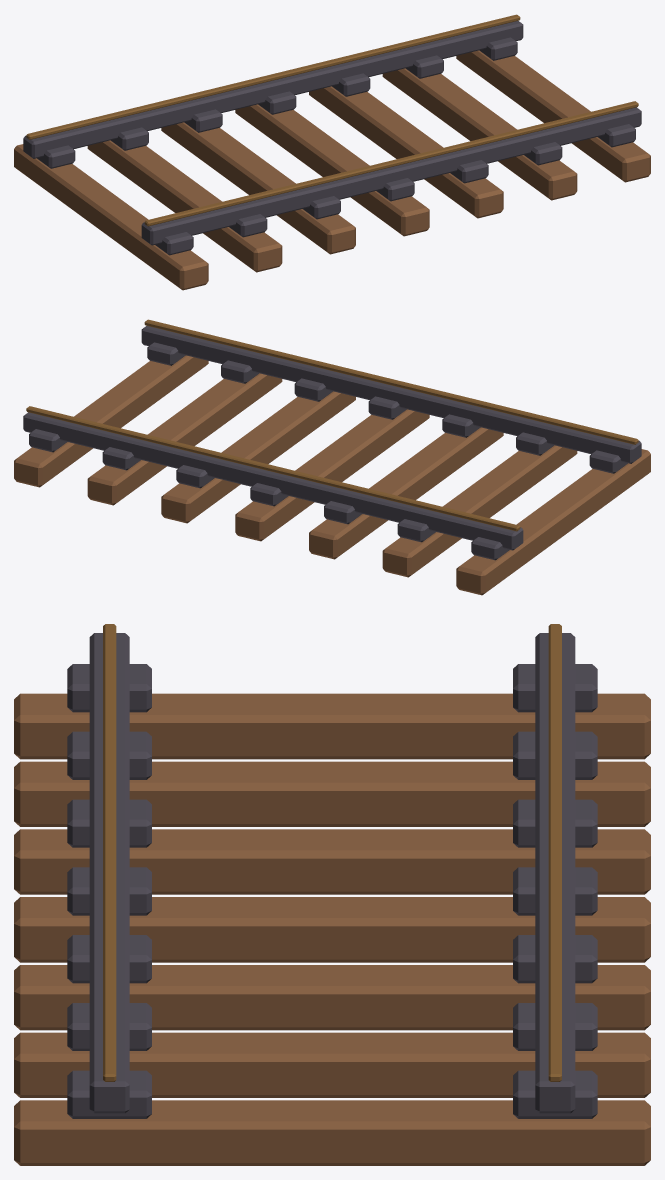
The model's file is SM_S3Bridge_Rail.fbx.
3 renders of one model, top to bottom at view 1: azimuth 30°, elevation 25°; view 2: azimuth 150°, elevation 25°; view 3: azimuth 270°, elevation 25°, orthographic. The views are drawn at different scales.
Visible parts, largest first — view 1: SM_S3Bridge_Rail; view 2: SM_S3Bridge_Rail; view 3: SM_S3Bridge_Rail.
Boxes of the visible parts, x1,y1,x2,y2 form: SM_S3Bridge_Rail: [14, 14, 650, 290]; SM_S3Bridge_Rail: [14, 319, 650, 595]; SM_S3Bridge_Rail: [14, 624, 650, 1165].
Size of the model in its own units: 240 by 143 by 25.5.
